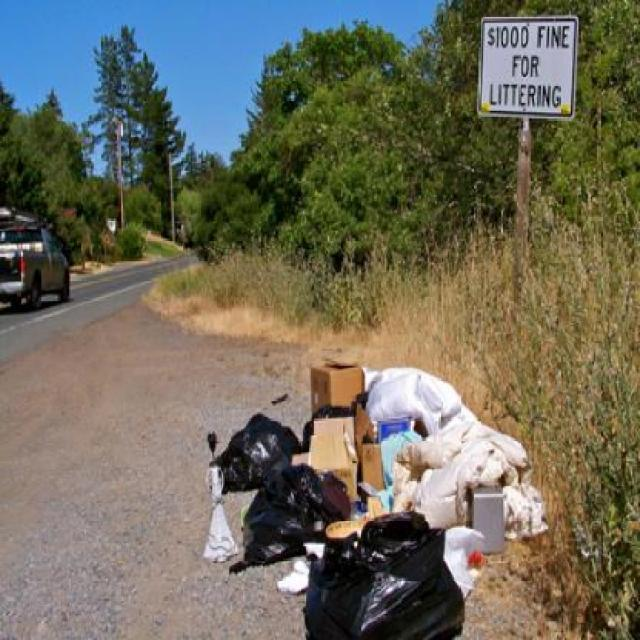garbage: (208, 400, 472, 638), (308, 449, 541, 539), (306, 357, 468, 454)
